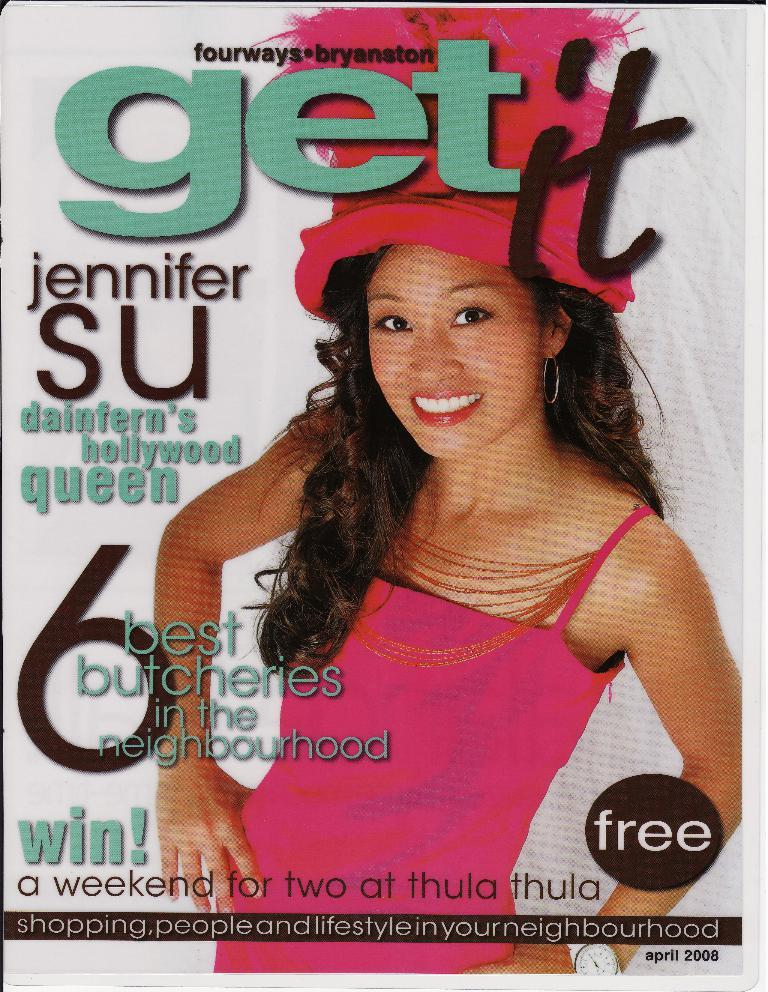Hat: (258, 2, 624, 330)
